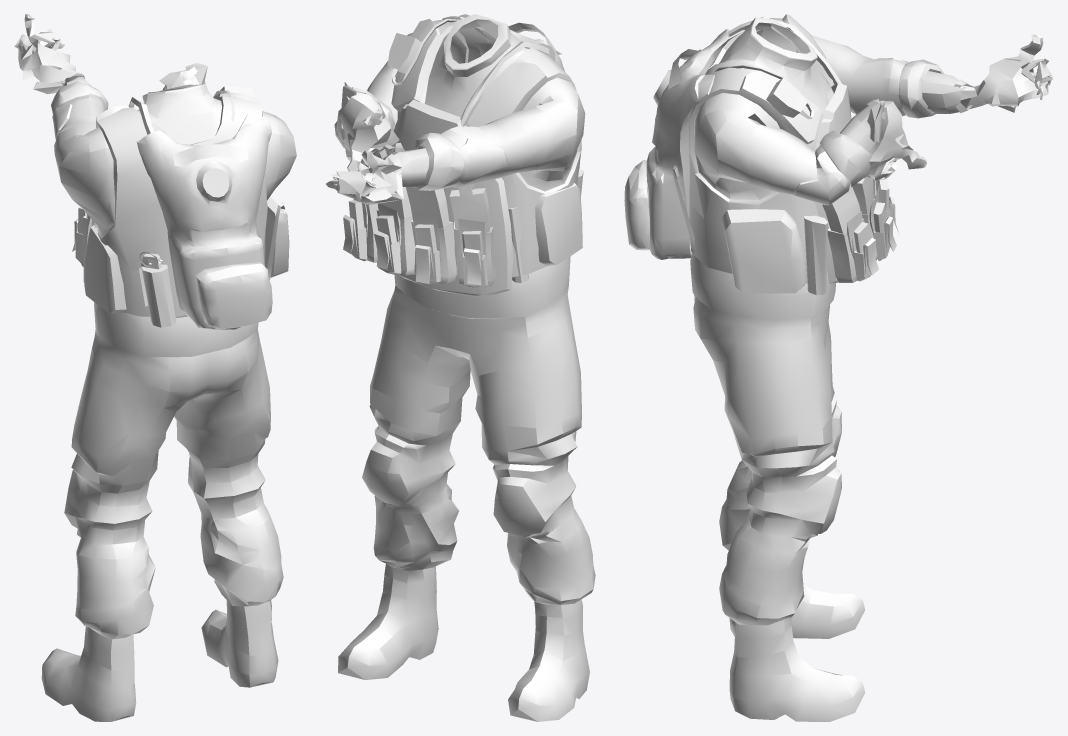
Rendered from stf_awp.glb.
3 views of the same model, side by side, from view 1: azimuth 30°, elevation 25°; view 2: azimuth 150°, elevation 25°; view 3: azimuth 270°, elevation 25° (orthographic). The views are drawn at different scales.
Parts seen in each view (by area): view 1: body_STF, gear_STF; view 2: body_STF, gear_STF; view 3: body_STF, gear_STF.
Part boxes in pixels (x1,y1,x2,y2): body_STF: (14,14,296,721); gear_STF: (72,86,289,329); body_STF: (326,14,595,721); gear_STF: (343,14,583,287); body_STF: (683,14,1053,721); gear_STF: (624,16,898,295).
Size of the model in its own units: 59.2 by 164 by 98.63.
Materials: 2 (2 with a texture image).
